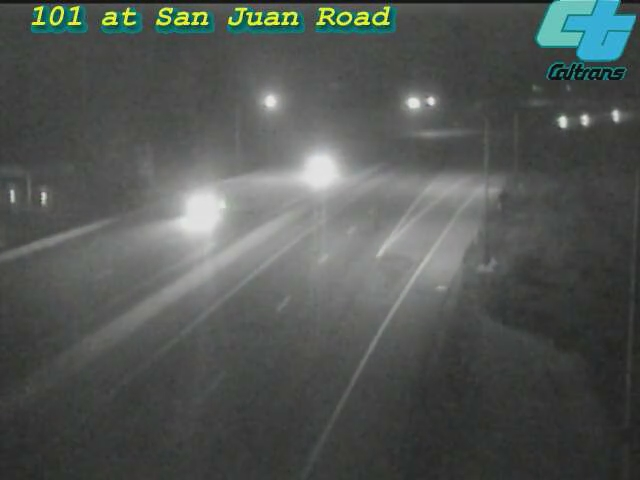vehicle: (160, 165, 240, 245), (276, 129, 356, 209), (589, 91, 639, 141), (565, 93, 615, 143), (537, 98, 587, 148)
